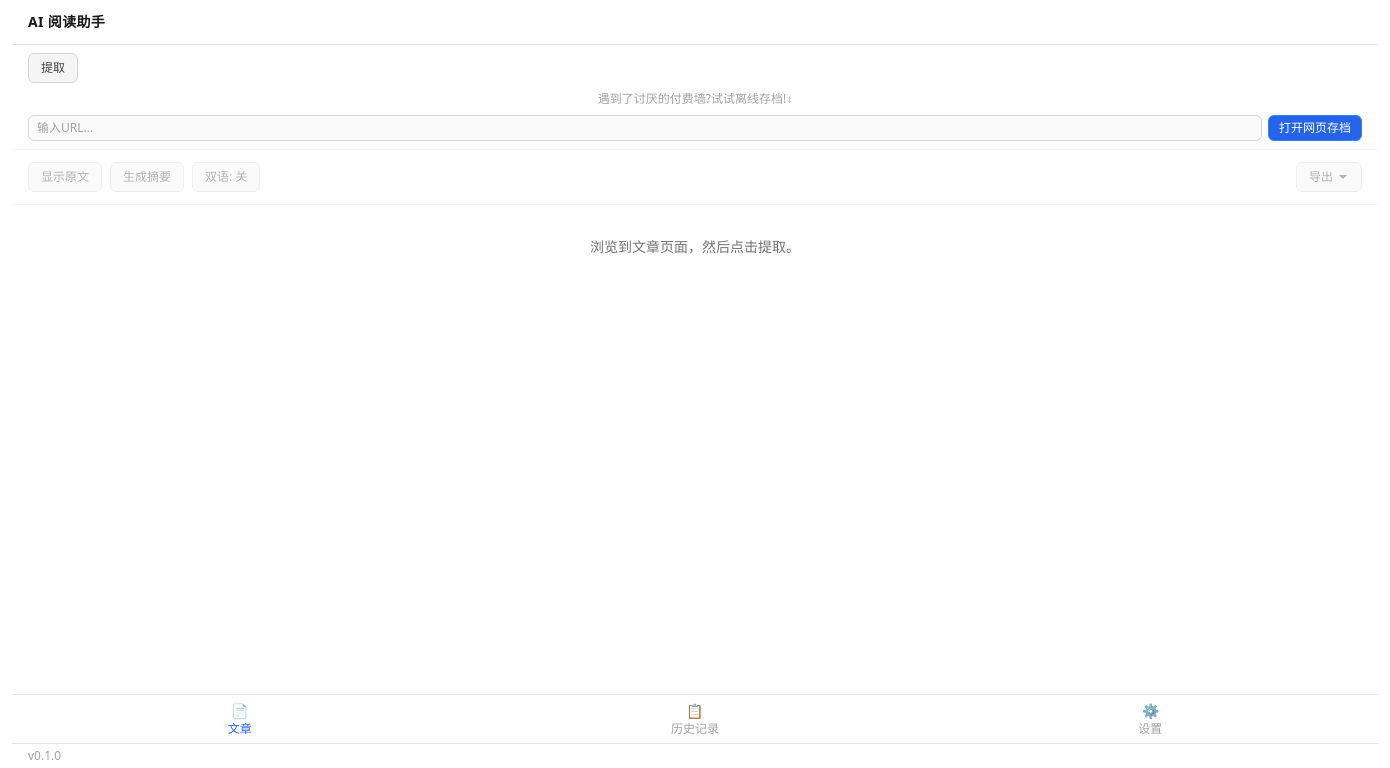
App – history tab › shows history entries
Expected: the heading "AI 阅读助手" is shown, [28,12,105,31]
// Click history tab
Click the text "📋" at (695, 711), box [686,701,704,721]
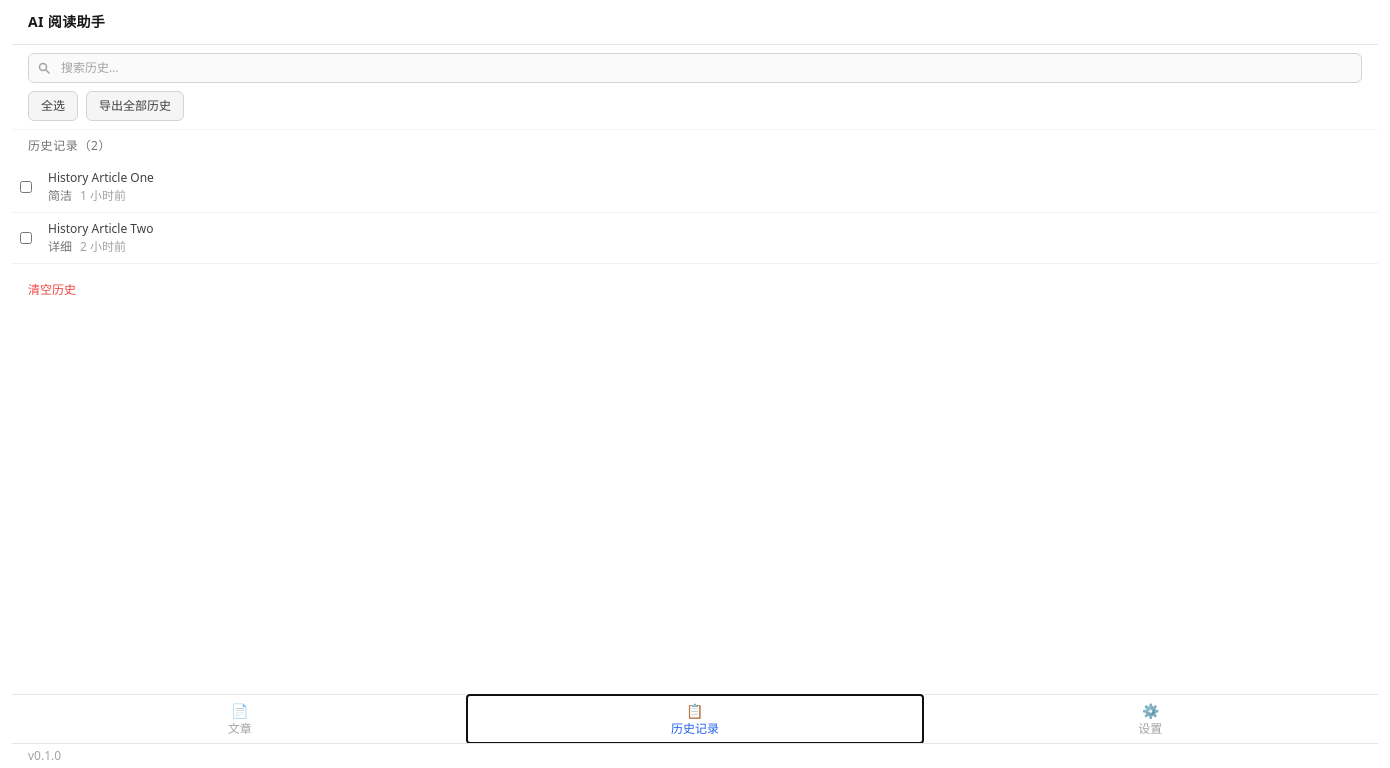
Now the text "History Article One" is shown, box [48,169,154,186]
Now the text "History Article Two" is shown, box [48,220,154,237]
Now the text "简洁" is shown, box [48,188,72,204]
